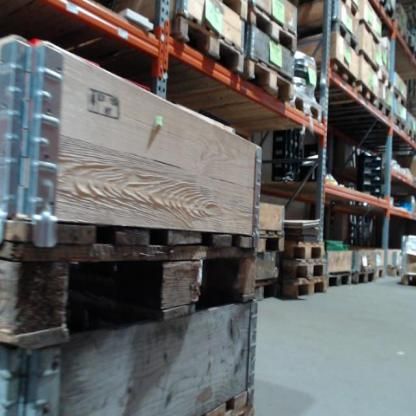pallet: (2, 218, 253, 351), (117, 14, 248, 88), (242, 60, 296, 108), (245, 5, 299, 52), (345, 18, 382, 75), (293, 22, 358, 54), (308, 64, 359, 96), (206, 387, 256, 415), (291, 89, 323, 124), (258, 228, 286, 263), (364, 2, 397, 28), (283, 260, 328, 278), (351, 83, 382, 108), (287, 242, 328, 260), (289, 279, 327, 298), (255, 279, 282, 303), (319, 1, 361, 15), (350, 268, 378, 289), (324, 270, 353, 287), (392, 21, 410, 48), (392, 112, 408, 136), (376, 100, 393, 120), (378, 71, 394, 90), (392, 89, 408, 108), (400, 271, 416, 288), (372, 267, 386, 279), (408, 126, 416, 141)
small_load_carrier: (395, 202, 413, 214)
